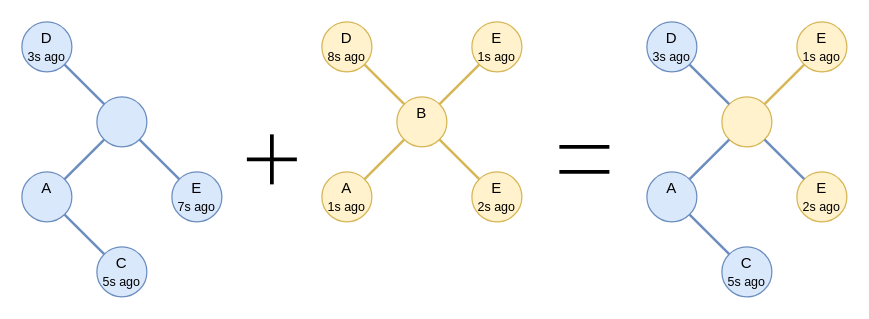
This 869x319 diagram has some shape labels left out. The centre of each missing label's shape, as x and y in pixels:
"B 0s ago" goes at (746,121).
"B 2s ago" goes at (121,121).
